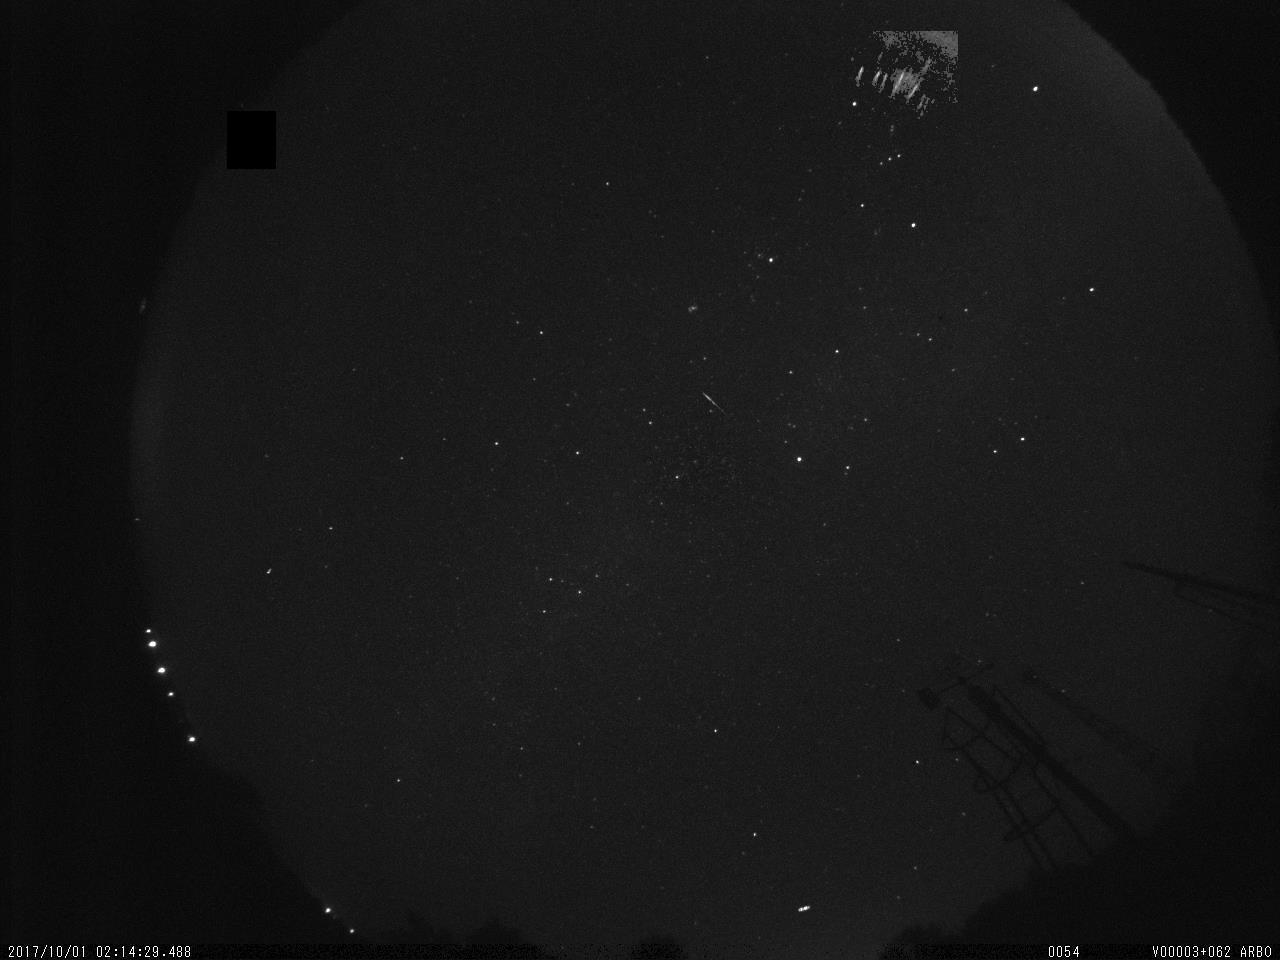TLE: (842, 31, 958, 131)
